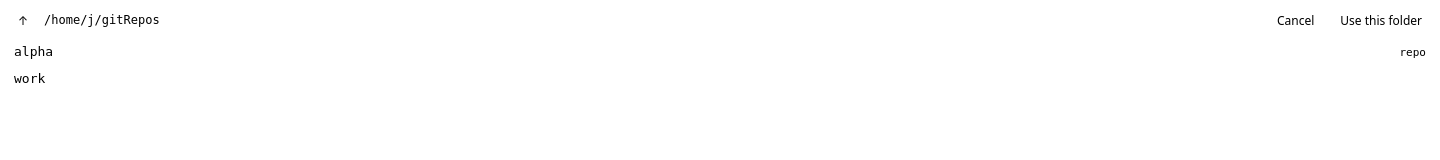
Test case: browsing › an unreadable directory says why and keeps the listing on screen
# 'work' is not in the tree: the daemon 404s it.
Click the button with class "entry" showing "work" at (30, 79), box [8,66,1432,93]
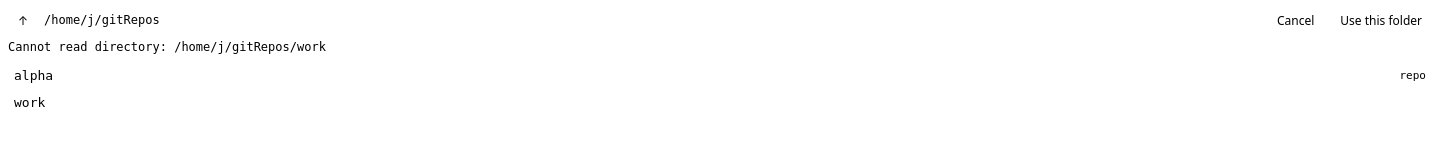
Expected: the text with class "current" reads "/home/j/gitRepos", [44,13,160,27]
Expected: the text "Cannot read directory: /home/j/gitRepos/work" is shown, [8,40,326,54]
